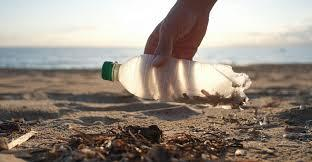Plastic: (86, 39, 258, 122)
